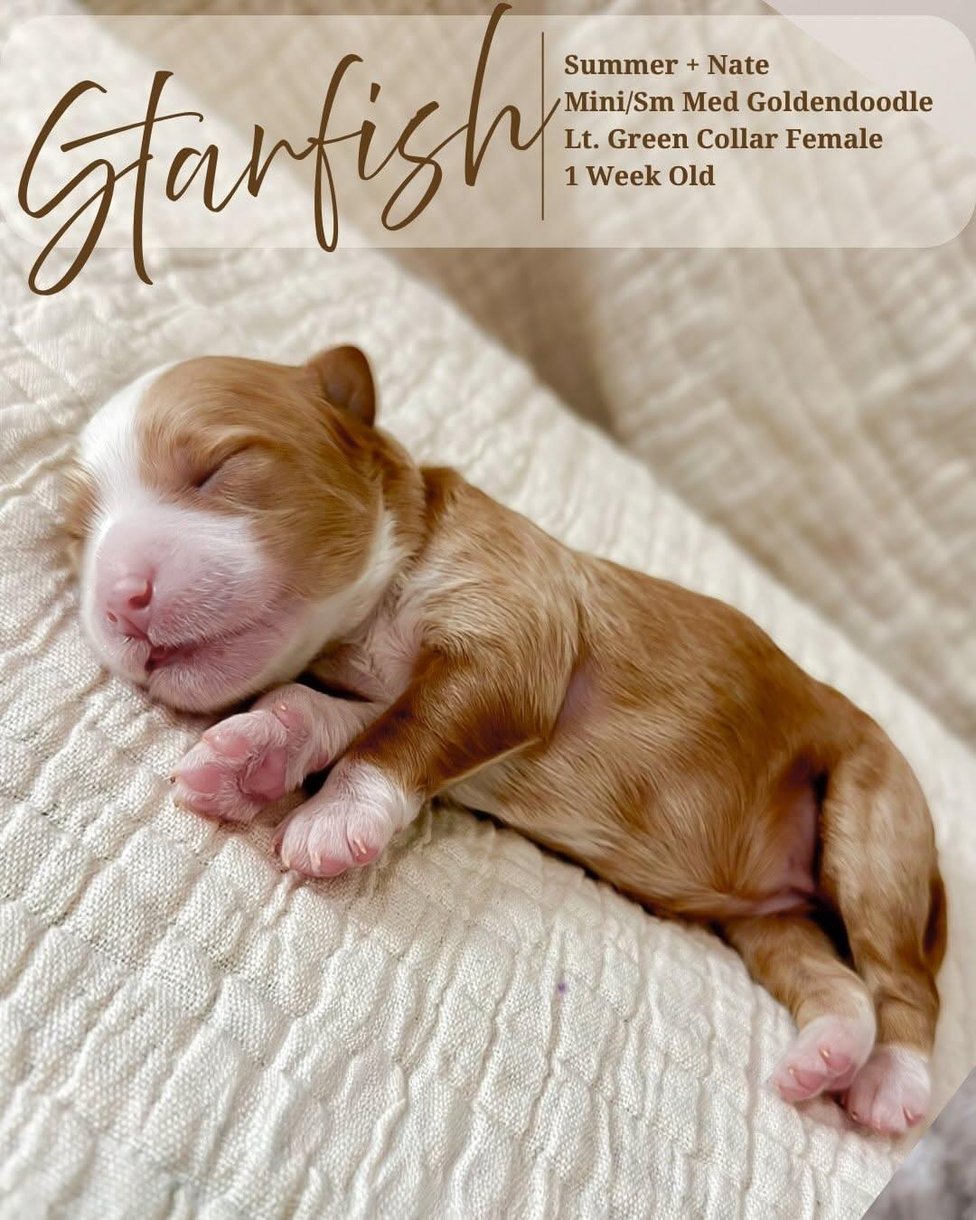puppy-dog: (58, 343, 948, 1143)
